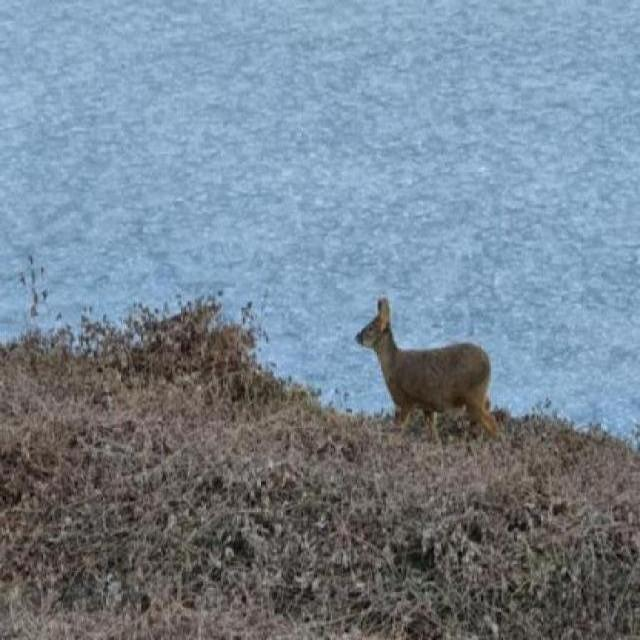deer: (351, 298, 506, 453)
